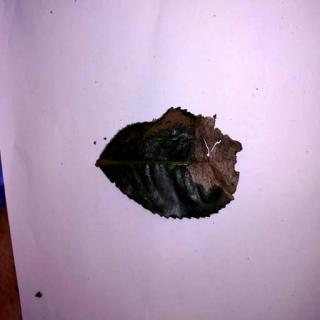Anthracnose: (96, 109, 245, 221)
